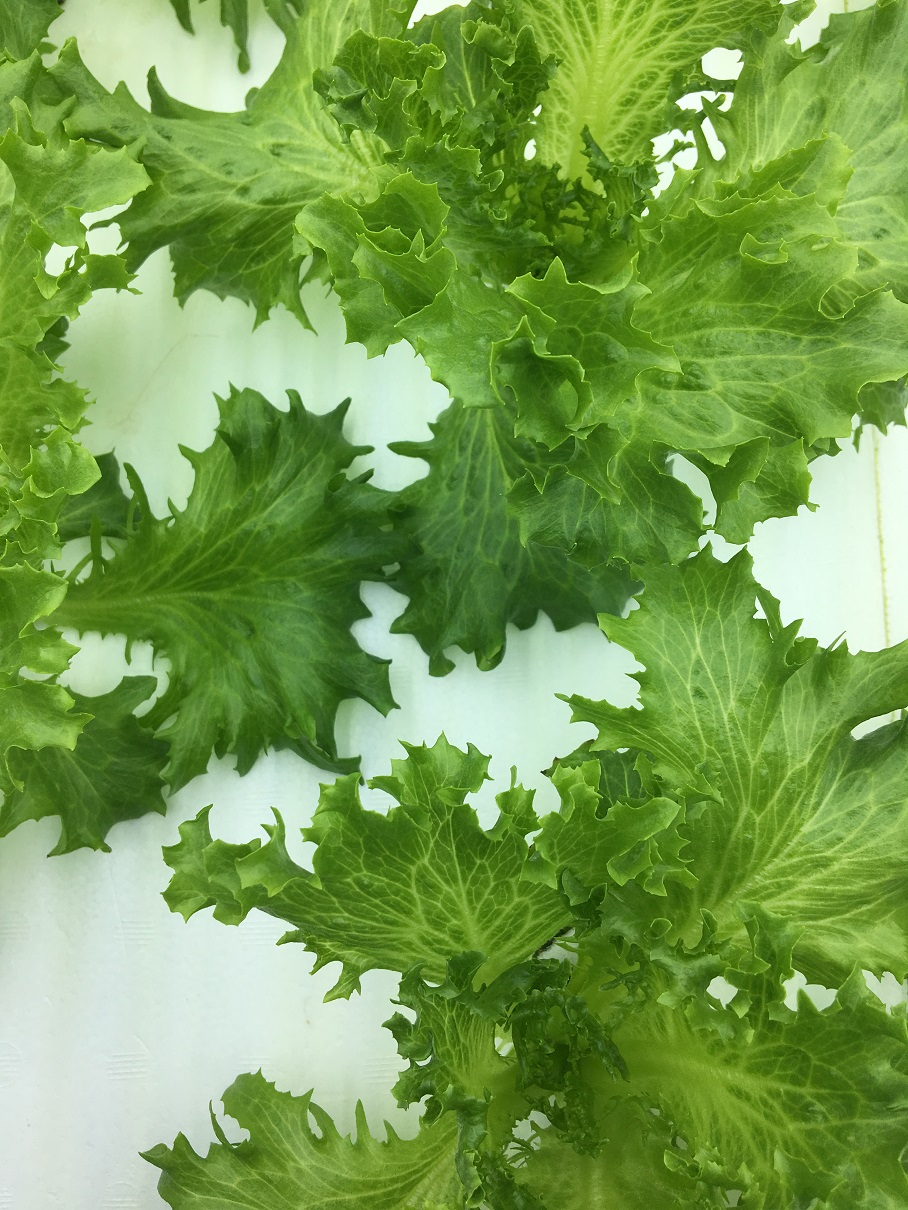tipburn: (548, 749, 566, 765), (536, 766, 551, 783)
